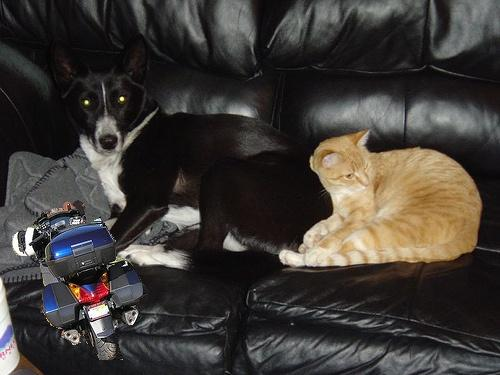tampered: (13, 201, 149, 360)
